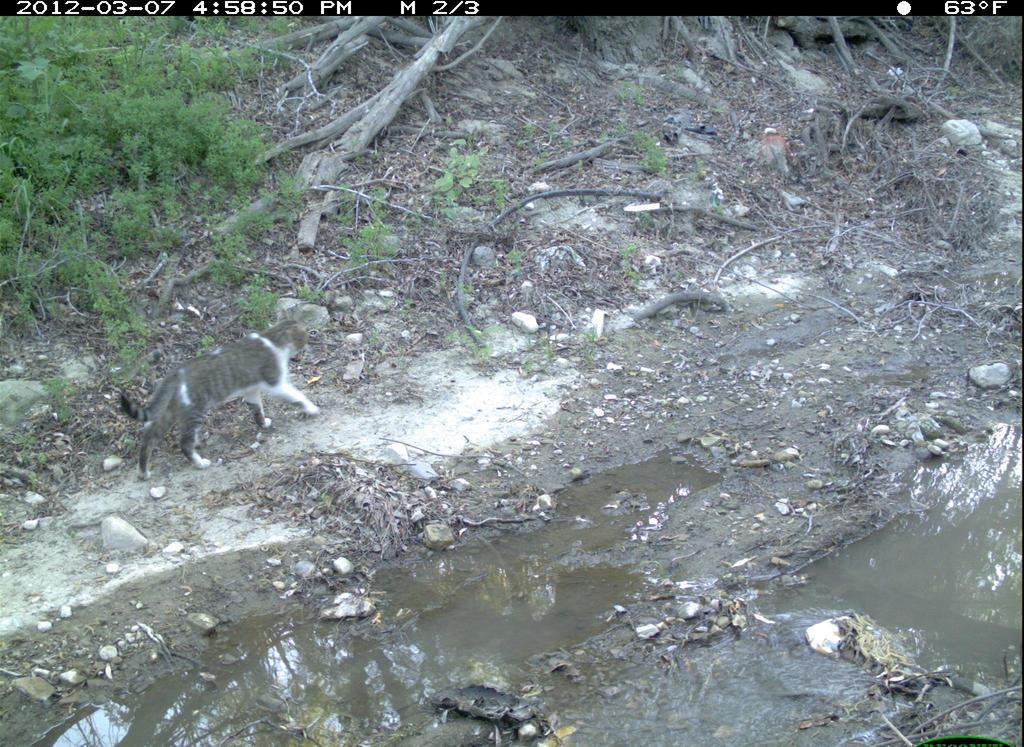cat: (117, 305, 323, 482)
